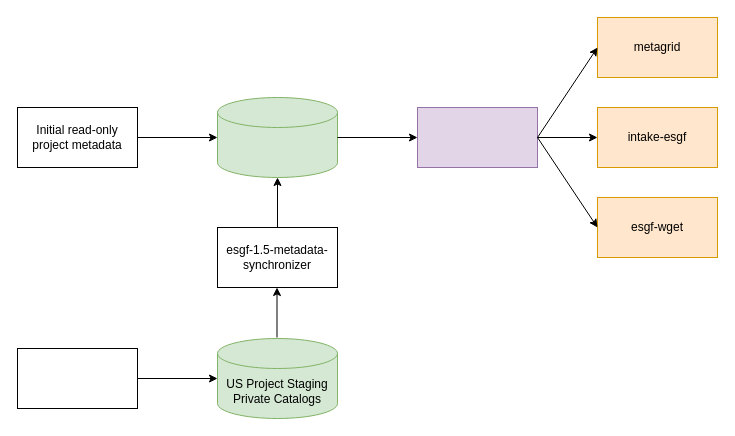
The diagram is 735 pixels wide and 436 high, and some of its shapes have lost their labels. The shapes that lost their labels are listed below. From the top down, each one's box as (x1, y1, x2, y2) in pixels, then its label:
(216, 96, 338, 178): US Consolidated Public Catalog
(416, 106, 538, 168): esg_fastapi
(16, 348, 138, 408): Initial read-write project metadata
